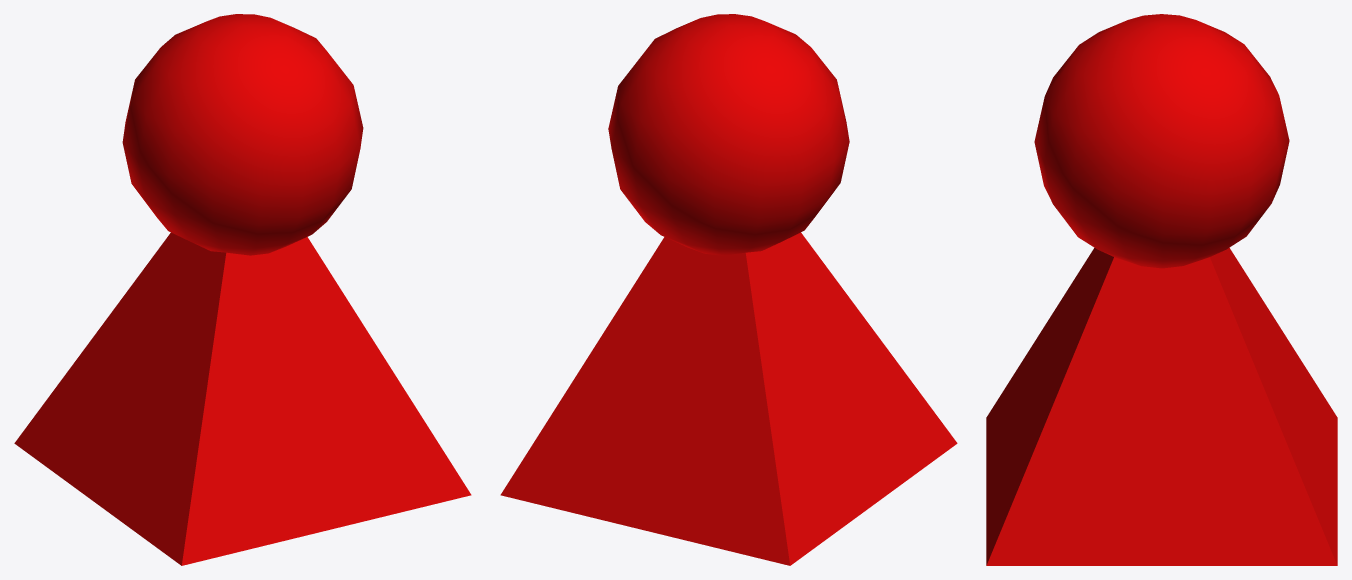
The picture shows the model from 3 angles, left to right: view 1: azimuth 30°, elevation 25°; view 2: azimuth 150°, elevation 25°; view 3: azimuth 270°, elevation 25°; orthographic projection. The views are drawn at different scales.
Visible parts, largest first — view 1: skfb_offset; view 2: skfb_offset; view 3: skfb_offset.
Part boxes in pixels (left/top/right/bottom): skfb_offset: left=14, top=14, right=471, bottom=565; skfb_offset: left=500, top=14, right=957, bottom=565; skfb_offset: left=986, top=14, right=1337, bottom=565.
Size of the model in its own units: 96915 by 141909 by 96915.
